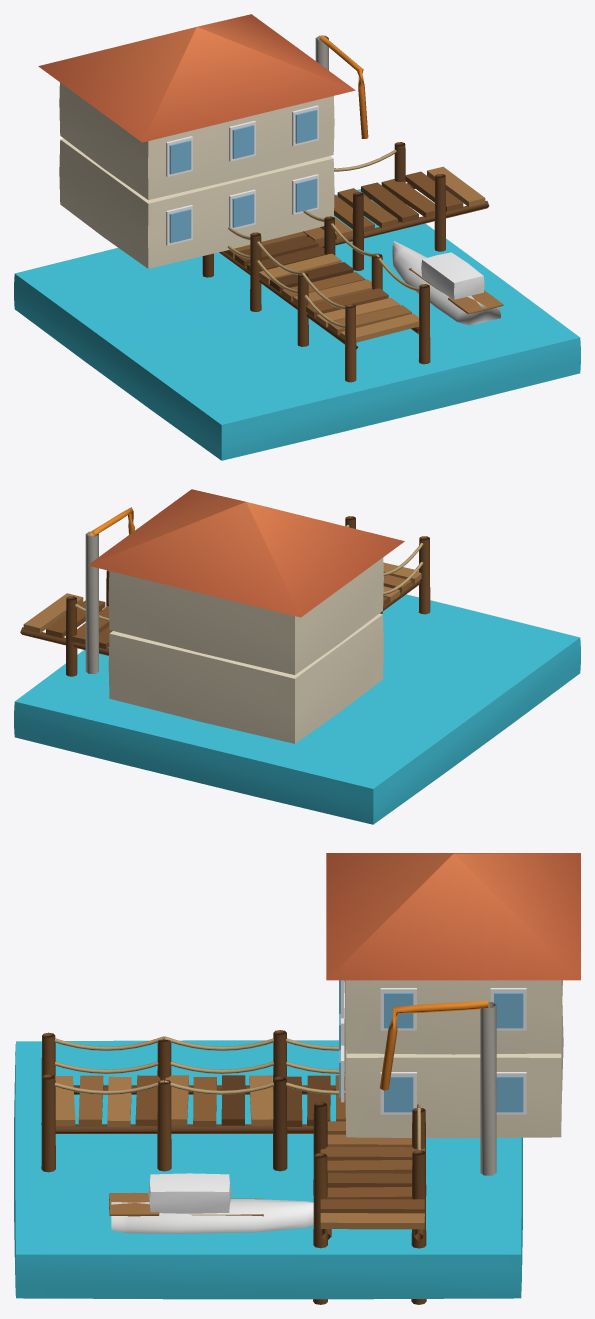
The model's file is Pier_L4.obj.
3 renders of one model, top to bottom at view 1: azimuth 30°, elevation 25°; view 2: azimuth 150°, elevation 25°; view 3: azimuth 270°, elevation 25°, orthographic. The views are drawn at different scales.
Parts seen in each view (by area): view 1: Pier_L4; view 2: Pier_L4; view 3: Pier_L4.
Boxes of the visible parts, x1,y1,x2,y2 form: Pier_L4: (14, 14, 580, 460); Pier_L4: (14, 489, 580, 824); Pier_L4: (14, 853, 580, 1304).
Bounding box in the file's own units: 4.8 × 3.2 × 4.9.
Materials: 1 (1 with a texture image).
